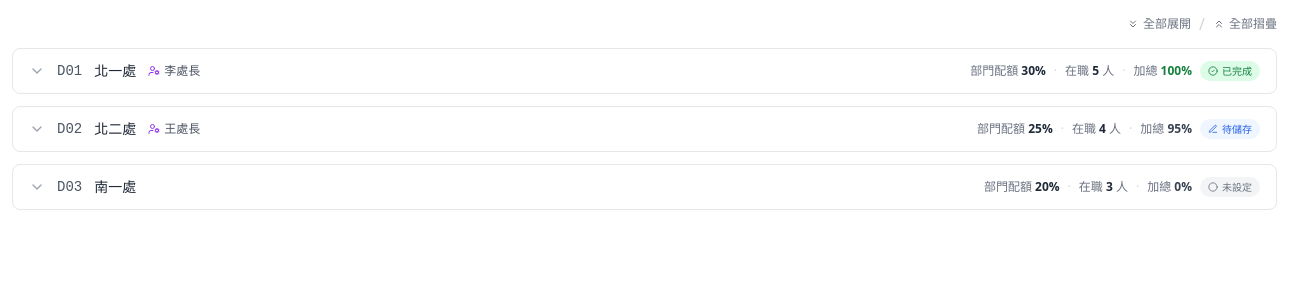
it: PersonnelRatioAccordion › 點 dept header 展開 / 折疊該 dept
Click the button with test id "dept-accordion-header-D01": (115,70) [13,49,1276,93]
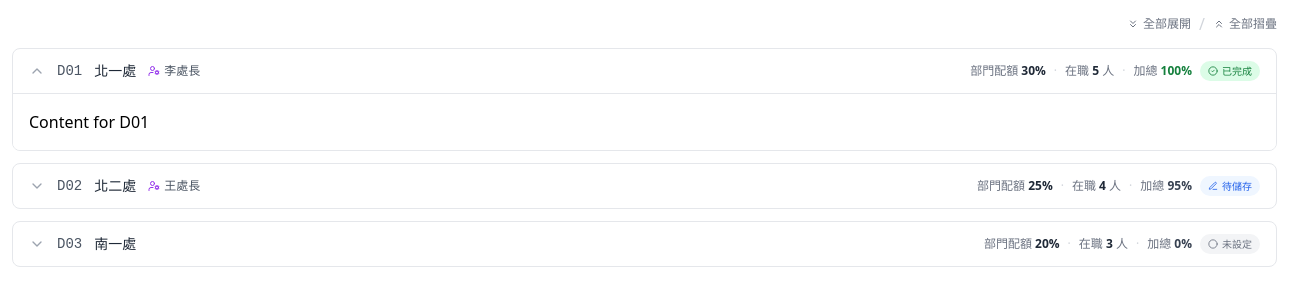
Expected: the text "Content for D01" is shown, [29,111,149,133]
